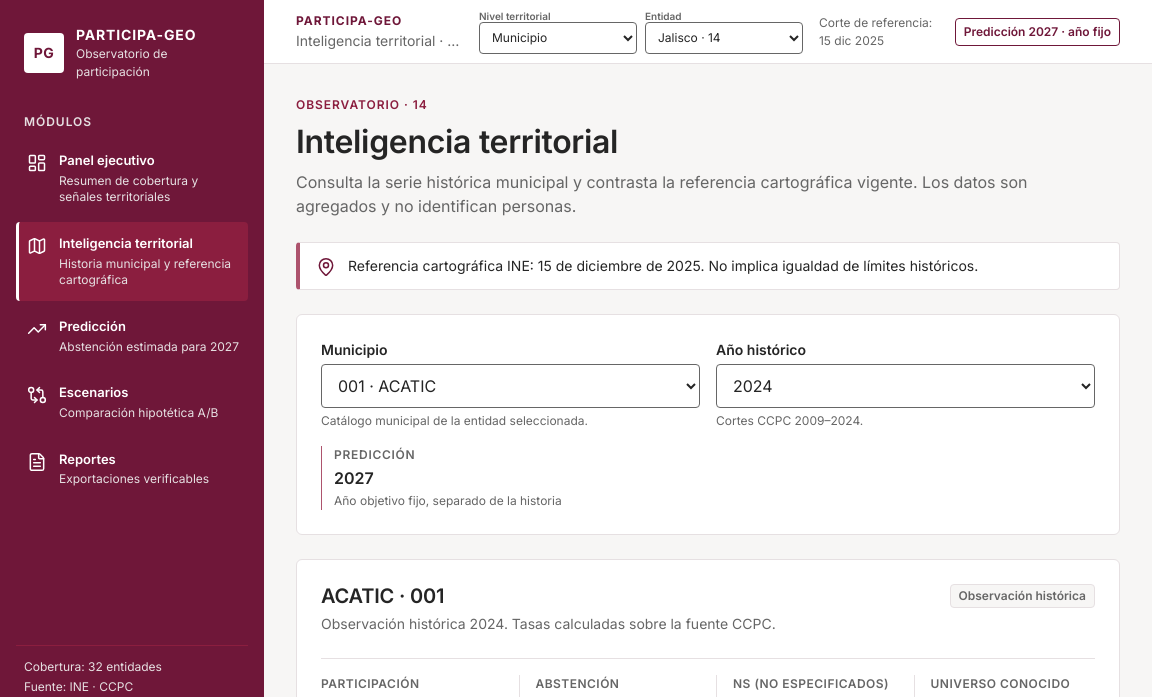
Scenario: TerritoryPage › does not refetch the six-year series when only the historical year changes
expect the heading "ACATIC · 001" is shown: met, box [321,584,444,608]
Select "2021" in the dropdown labelled "Año histórico" at (906, 386), box [716,364,1095,408]
(page scrolled)
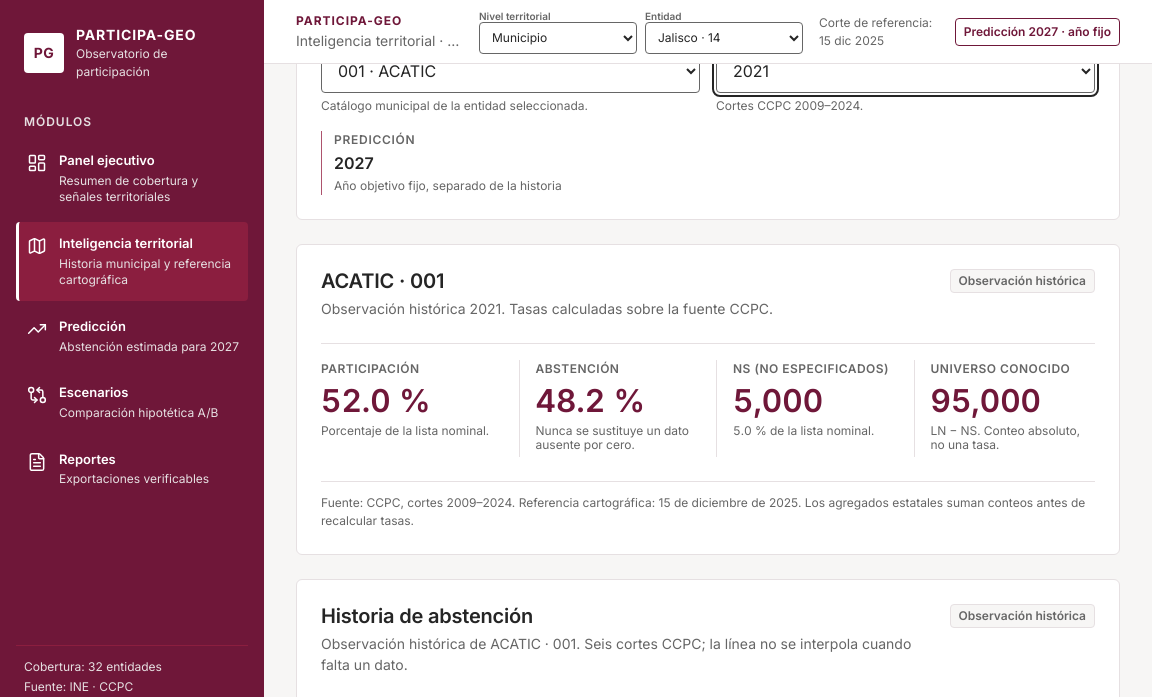
expect the text with test id "kpi-abstention" reads "48.2 %": met, box [536,381,645,420]
